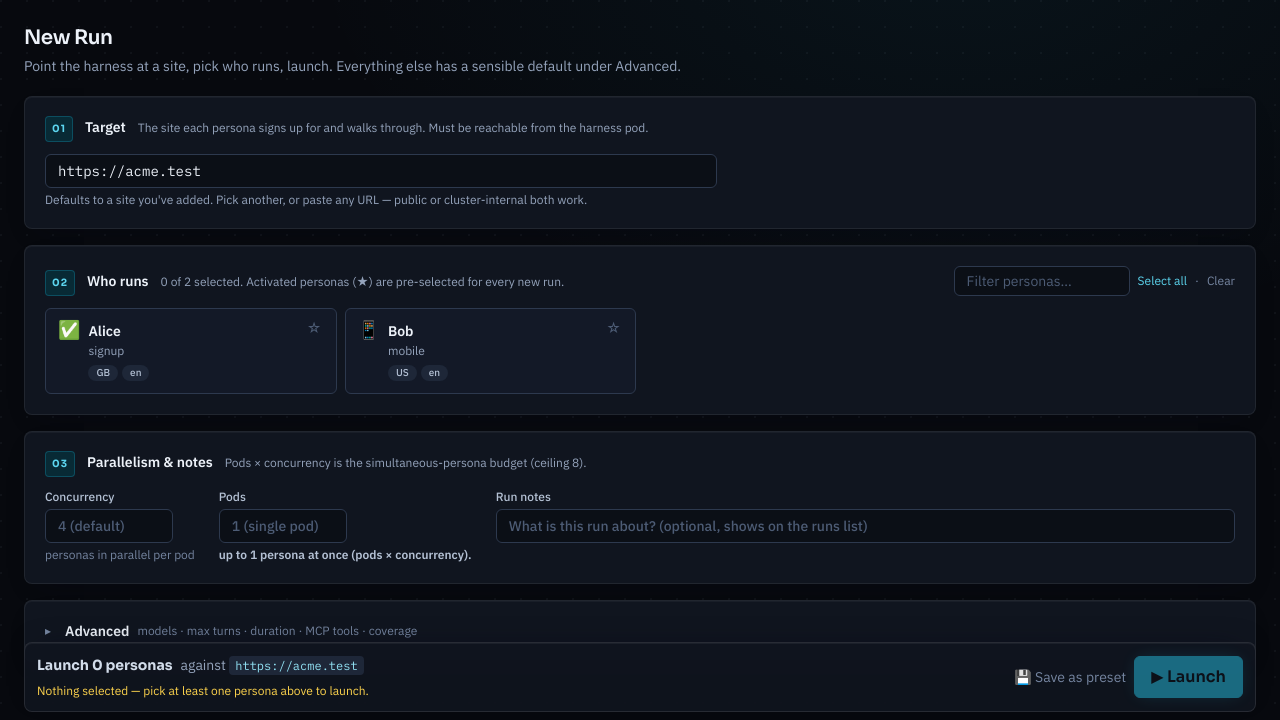
Test: <NewRun> — #1822 inline activation star › star PATCHes is_active toggled via updatePersona (activate)
What coordinates should you click on to do the following:
click the button with test id "persona-default-toggle-bob"
I would click on:
 (614, 328)
Its box is [606,319,621,337].
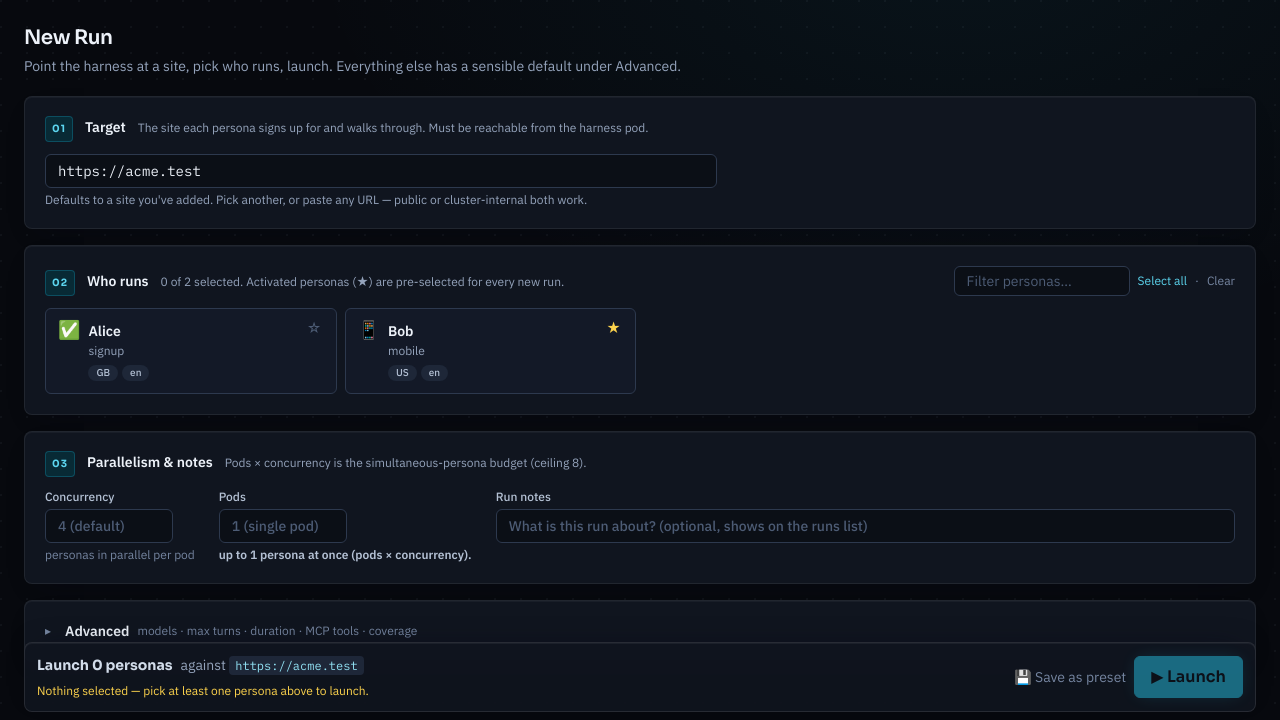
Check: the button with test id "persona-default-toggle-bob" reads "★", box [606,319,621,337]
